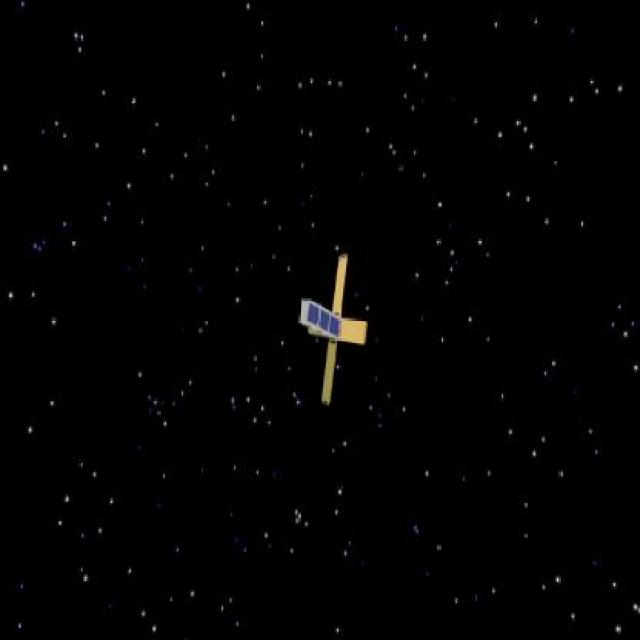satellite: (286, 246, 382, 408)
